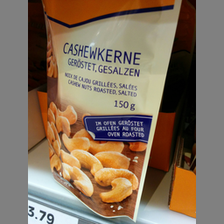nuts: (39, 1, 184, 222)
